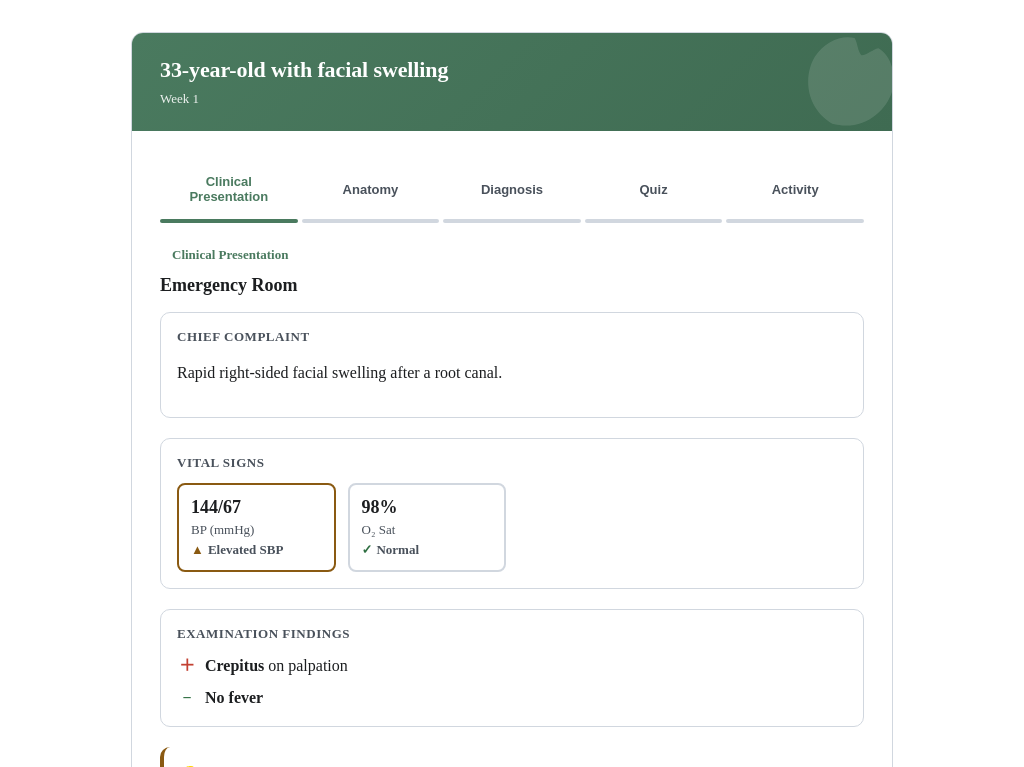
Test: ClinicalCase › locks a quiz question after answering and reveals per-option feedback
Step 1. Click the button "Quiz" → (654, 189), box [585,167,722,211]
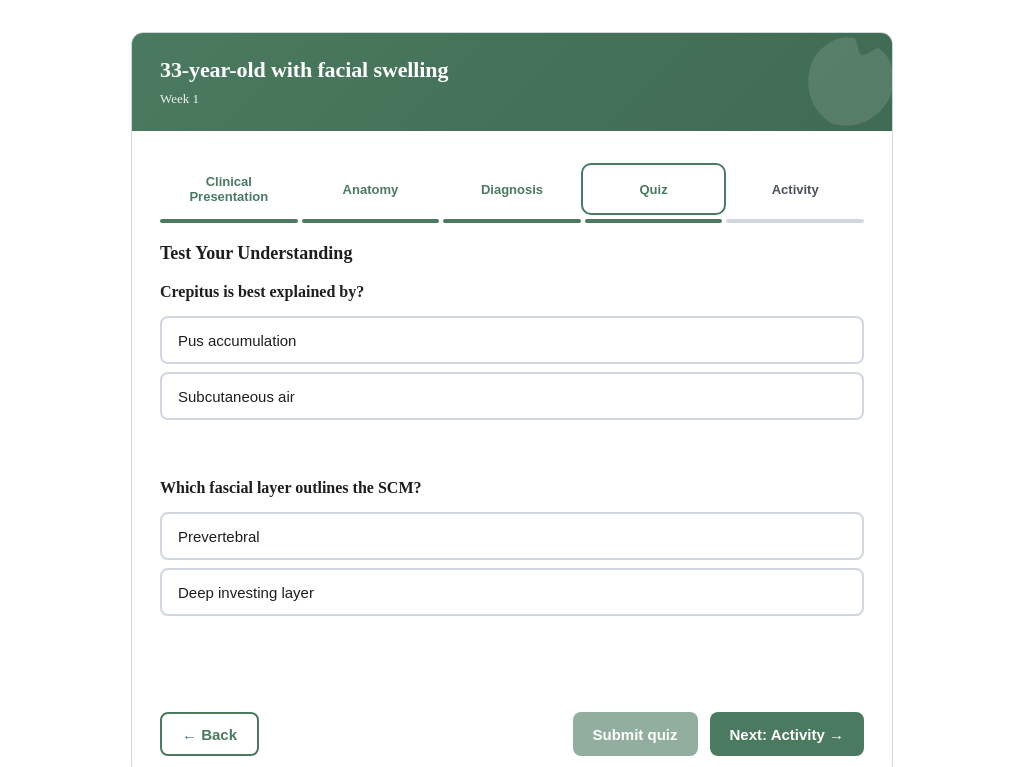
Step 2. Click the button "Pus accumulation" → (237, 340), box [160,316,864,364]
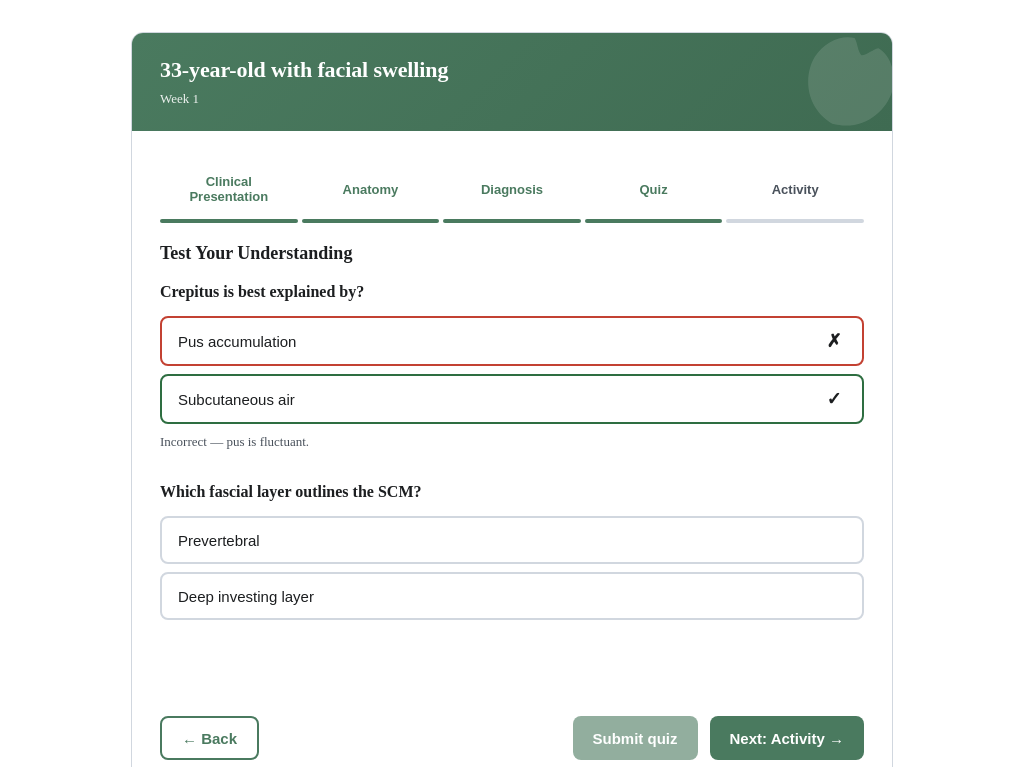
Expected: the text "Incorrect — pus is fluctuant." is shown, [160,434,309,449]
Expected: the button "Pus accumulation ✗" is disabled, [160,316,864,366]
Expected: the button "Subcutaneous air ✓" is disabled, [160,374,864,424]
